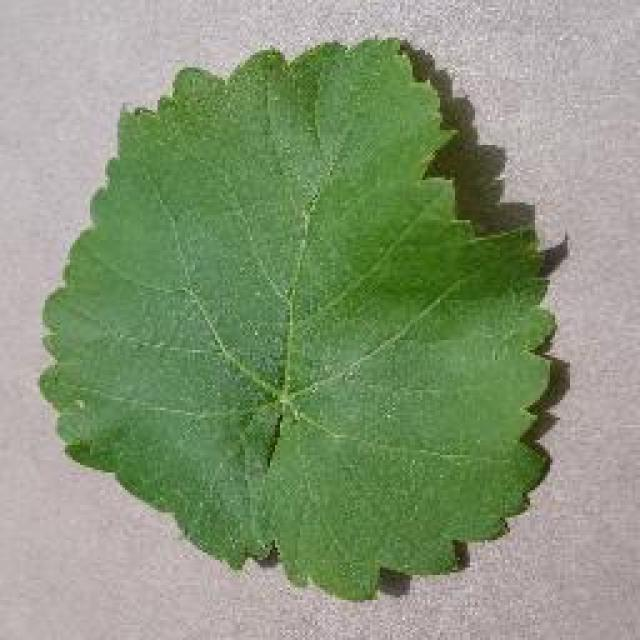Grape___healthy: (28, 31, 560, 613)
